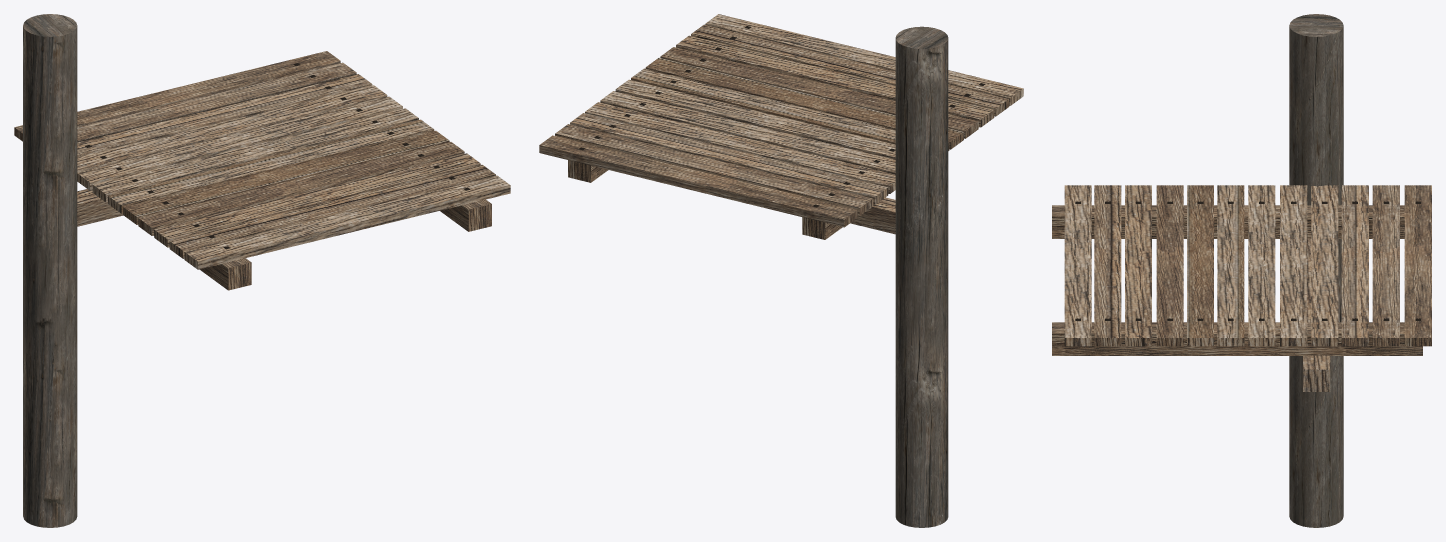
File: Kit Plataforma Madera.fbx
The picture shows the model from 3 angles, left to right: view 1: azimuth 30°, elevation 25°; view 2: azimuth 150°, elevation 25°; view 3: azimuth 270°, elevation 25°; orthographic projection. The views are drawn at different scales.
Parts seen in each view (by area): view 1: Plataforma 4x4, Columna 6x0.3, Viga 4x0.3; view 2: Plataforma 4x4, Columna 6x0.3, Viga 4x0.3; view 3: Plataforma 4x4, Columna 6x0.3, Viga 4x0.3.
Part boxes in pixels (box(x1,y1,x2,y2)): Plataforma 4x4: box(14, 51, 510, 290); Columna 6x0.3: box(23, 14, 77, 527); Viga 4x0.3: box(77, 189, 123, 226); Plataforma 4x4: box(539, 14, 1023, 239); Columna 6x0.3: box(895, 26, 948, 527); Viga 4x0.3: box(850, 197, 895, 234); Plataforma 4x4: box(1052, 185, 1431, 355); Columna 6x0.3: box(1289, 14, 1343, 527); Viga 4x0.3: box(1303, 238, 1330, 391).
Bounding box in the file's own units: 462 × 600 × 420.
3 materials, 2 textured.
